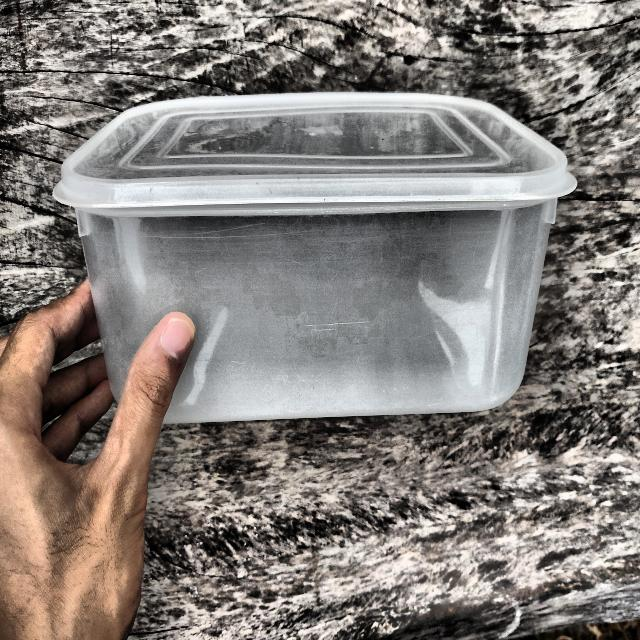plastic container: (46, 97, 540, 432)
